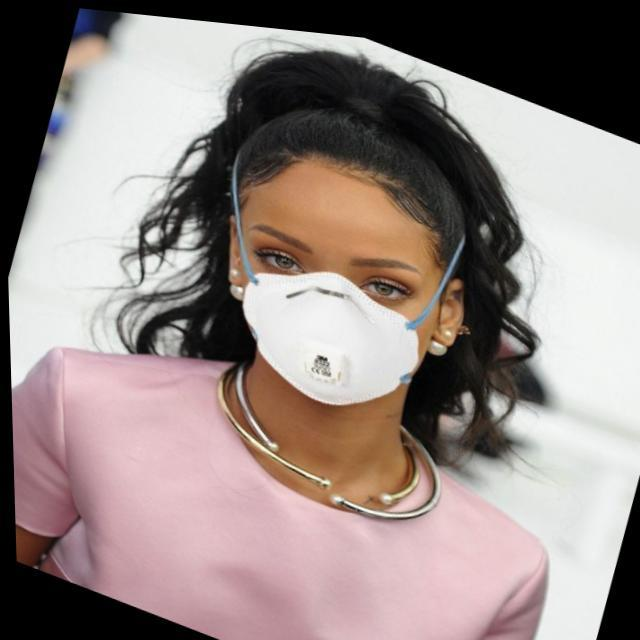Nonhelmet: (182, 45, 548, 419)
